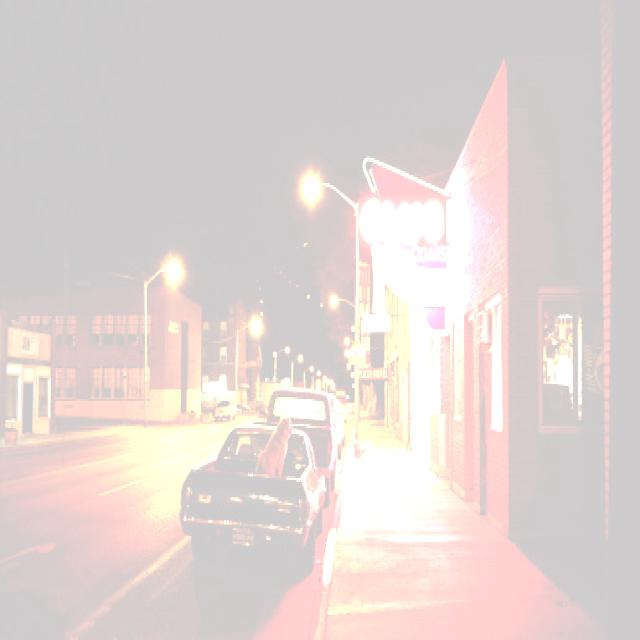Dog: (247, 375, 327, 503)
